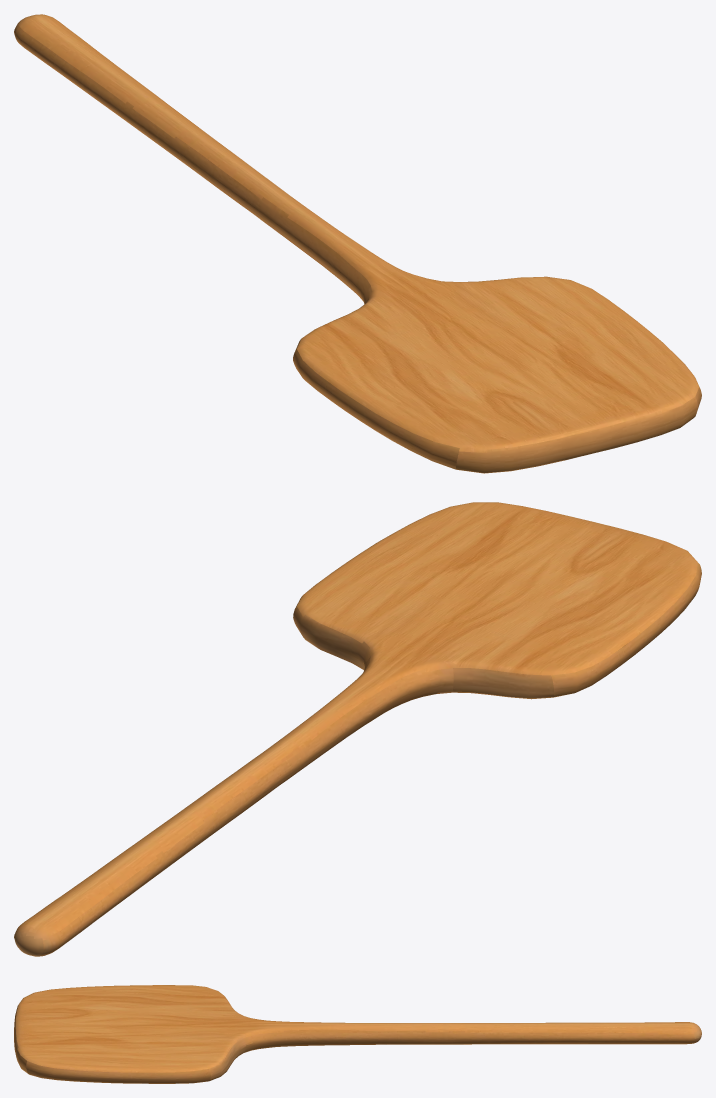
Rendered from firin-kuregi.glb.
3 renders of one model, top to bottom at view 1: azimuth 30°, elevation 25°; view 2: azimuth 150°, elevation 25°; view 3: azimuth 270°, elevation 25°, orthographic. The views are drawn at different scales.
Visible parts, largest first — view 1: Mesh0; view 2: Mesh0; view 3: Mesh0.
Boxes of the visible parts, left/top/right/bottom form: Mesh0: left=14, top=14, right=701, bottom=473; Mesh0: left=14, top=502, right=701, bottom=956; Mesh0: left=14, top=985, right=701, bottom=1083.
Size of the model in its own units: 0.5784 by 0.0616 by 1.9.
1 material, 1 textured.
